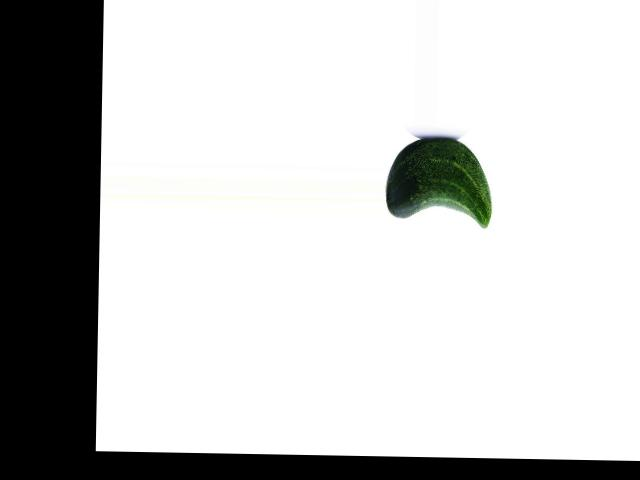cucumber: (385, 136, 494, 227)
